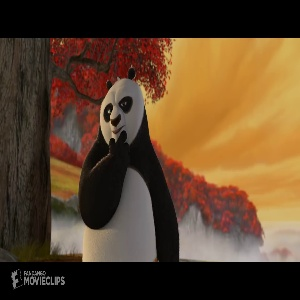po: (77, 65, 181, 263)
